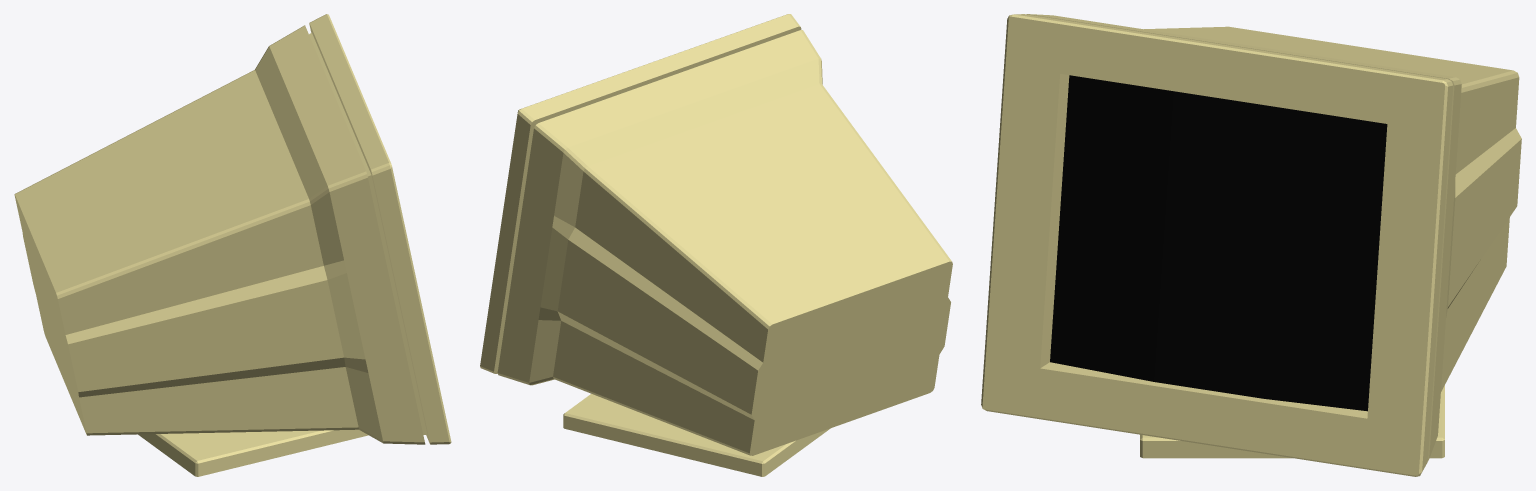
Rendered from OLD_MONITOR.fbx.
3 renders of one model, left to right at view 1: azimuth 30°, elevation 25°; view 2: azimuth 150°, elevation 25°; view 3: azimuth 270°, elevation 25°, orthographic. The views are drawn at different scales.
Parts seen in each view (by area): view 1: Cube.001; view 2: Cube.001; view 3: Cube.001.
Part boxes in pixels (left/top/right/bottom): Cube.001: left=14, top=14, right=451, bottom=476; Cube.001: left=480, top=14, right=952, bottom=476; Cube.001: left=981, top=14, right=1521, bottom=476.
Bounding box in the file's own units: 395 × 293 × 355.
